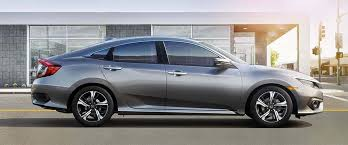Honda: (33, 36, 324, 128)
